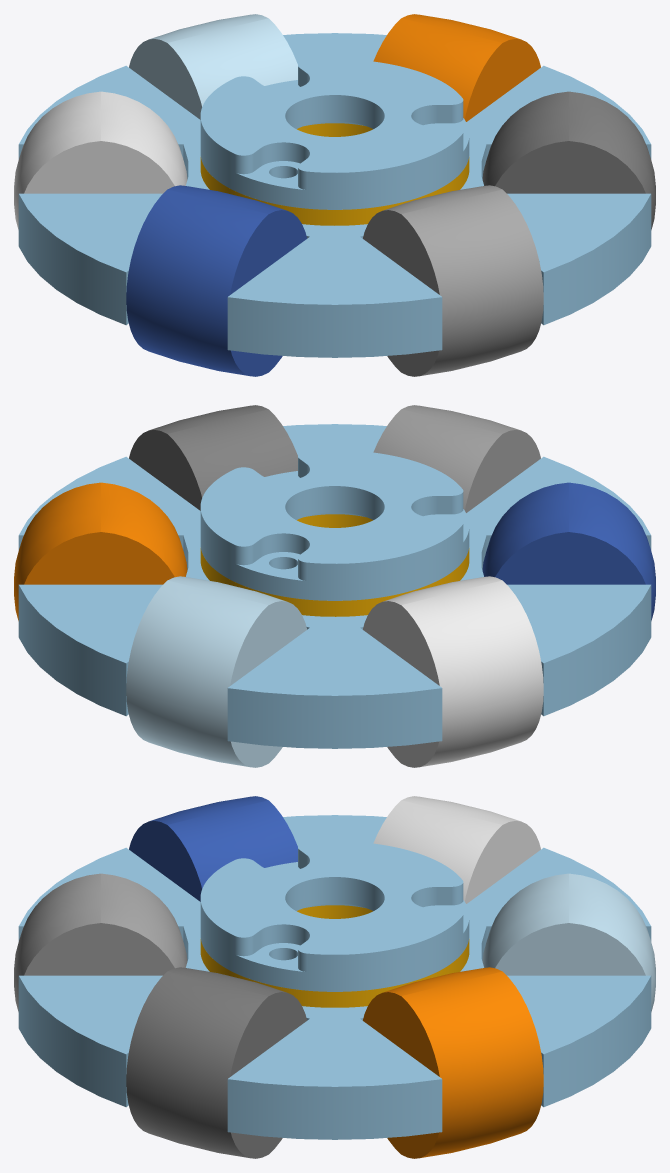
File: pizza_caster.dae
3 renders of one model, top to bottom at view 1: azimuth 30°, elevation 25°; view 2: azimuth 150°, elevation 25°; view 3: azimuth 270°, elevation 25°, orthographic.
Visible parts, largest first — view 1: Part 1, Part 9, Part 3, Part 2, Part 4, Part 7, Part 5, Part 6, Part 8; view 2: Part 1, Part 9, Part 4, Part 5, Part 6, Part 3, Part 7, Part 2, Part 8; view 3: Part 1, Part 9, Part 6, Part 7, Part 5, Part 2, Part 3, Part 4, Part 8.
Part boxes in pixels (x1,y1,x2,y2): Part 1: (18, 33, 651, 357); Part 9: (200, 59, 469, 209); Part 3: (126, 185, 306, 376); Part 2: (363, 185, 543, 376); Part 4: (14, 91, 187, 229); Part 7: (482, 91, 655, 229); Part 5: (129, 14, 297, 119); Part 6: (373, 14, 540, 121); Part 8: (200, 123, 469, 225); Part 1: (18, 424, 651, 748); Part 9: (200, 450, 469, 600); Part 4: (363, 576, 543, 767); Part 5: (126, 576, 306, 767); Part 6: (14, 482, 187, 620); Part 3: (482, 482, 655, 620); Part 7: (129, 405, 297, 510); Part 2: (373, 405, 540, 512); Part 8: (200, 514, 469, 616); Part 1: (18, 815, 651, 1139); Part 9: (200, 841, 469, 991); Part 6: (363, 967, 543, 1158); Part 7: (126, 967, 306, 1158); Part 5: (482, 873, 655, 1011); Part 2: (14, 873, 187, 1011); Part 3: (129, 796, 297, 901); Part 4: (373, 796, 540, 903); Part 8: (200, 905, 469, 1007).
Size of the model in its own units: 0.055 by 0.0549 by 0.015.
